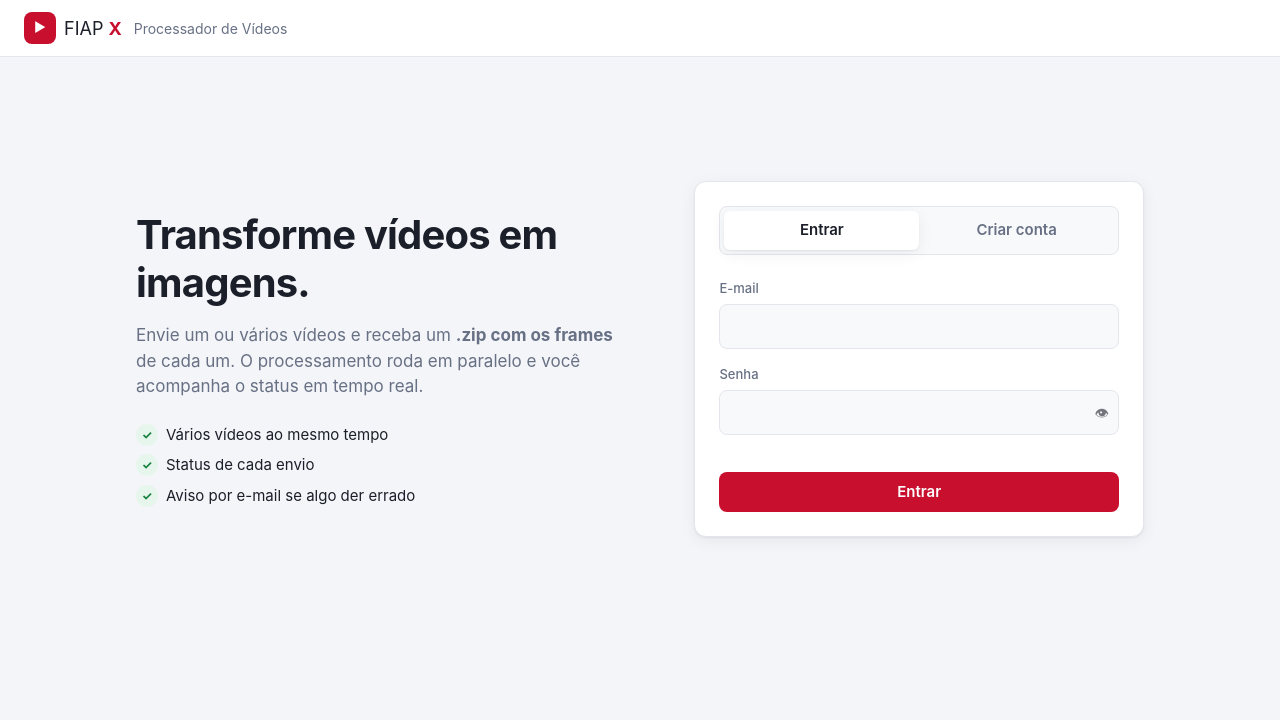
Test: acesso › valida os campos antes de enviar
Click the button "Entrar" at {"x": 919, "y": 492}, box [720, 472, 1119, 512]
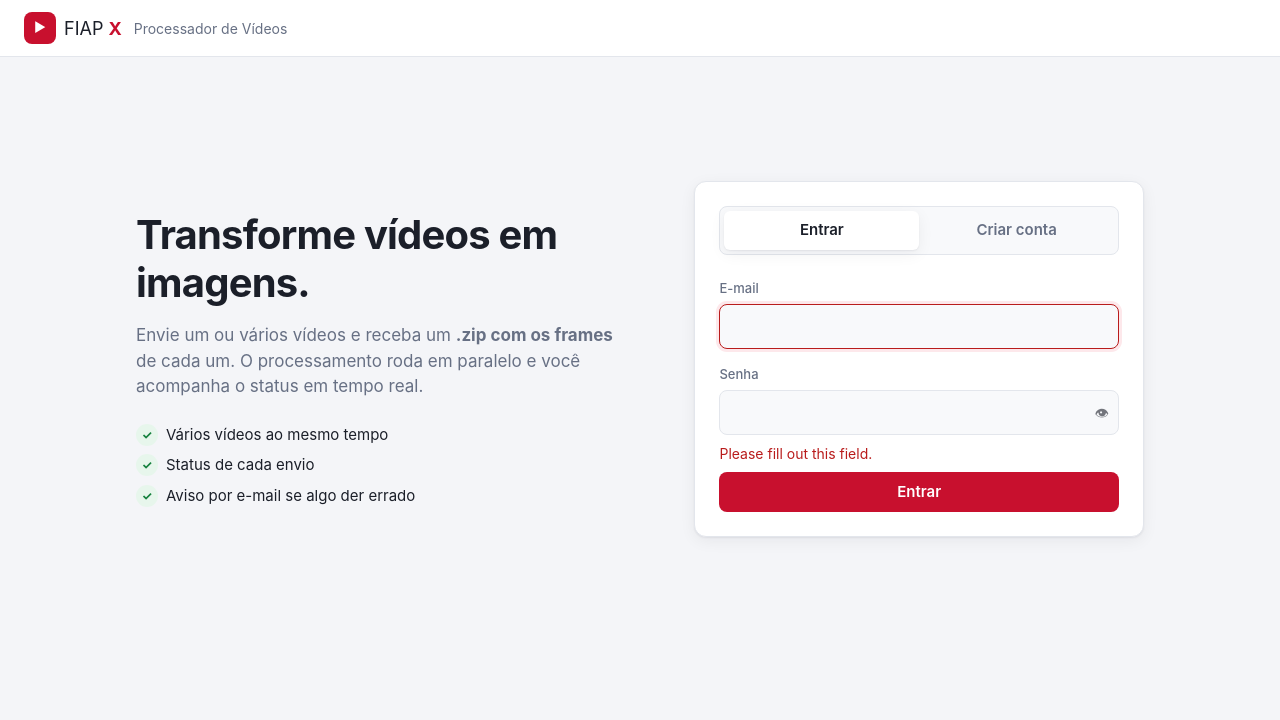
Check: the message is not empty, box [720, 445, 872, 462]
